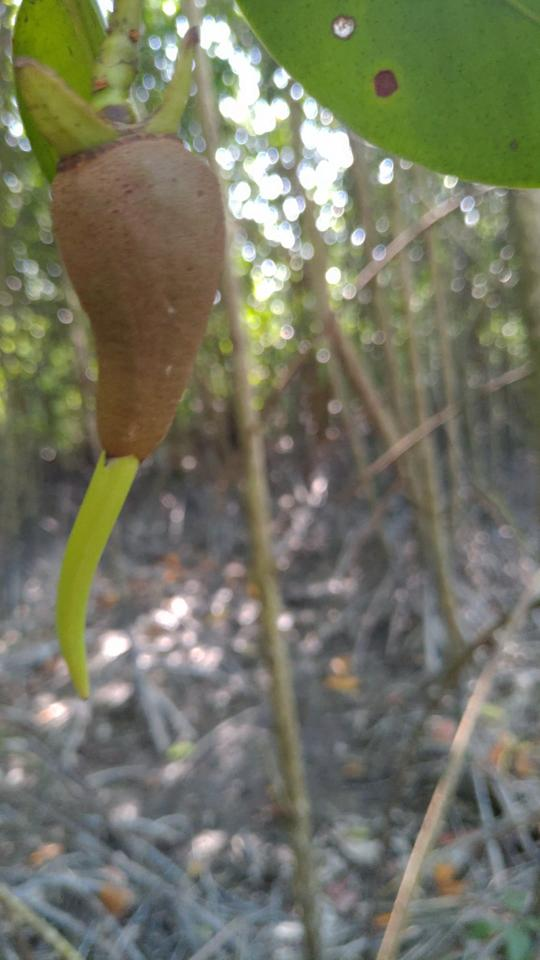mentah: (20, 56, 245, 719)
